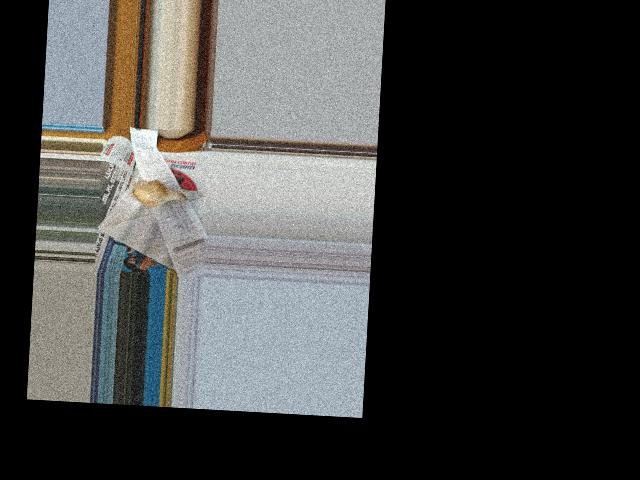onion: (130, 178, 183, 209)
